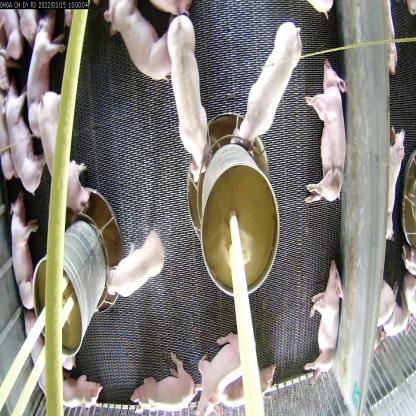Pig: (189, 314, 274, 416), (236, 16, 302, 145), (166, 18, 215, 180), (34, 84, 92, 214), (300, 41, 346, 204), (102, 0, 174, 89), (25, 4, 66, 149), (122, 350, 198, 415), (3, 82, 44, 197), (96, 231, 163, 297), (8, 198, 44, 320), (312, 255, 342, 378), (49, 365, 103, 415), (24, 324, 54, 394)
